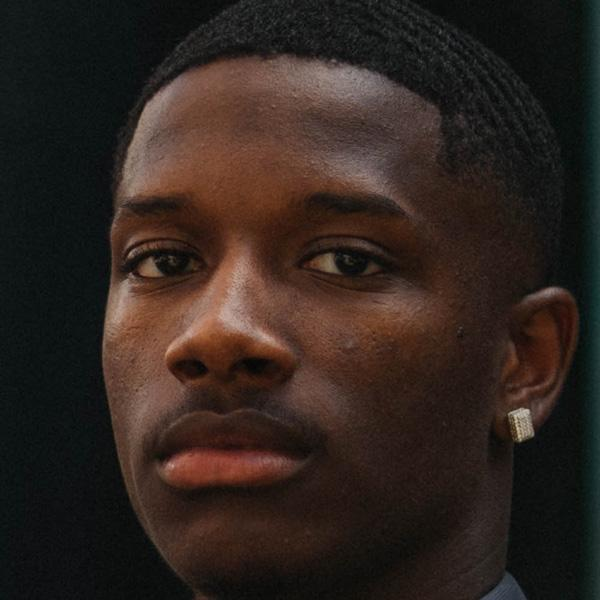Eyes: (278, 222, 404, 295), (116, 224, 218, 291)
